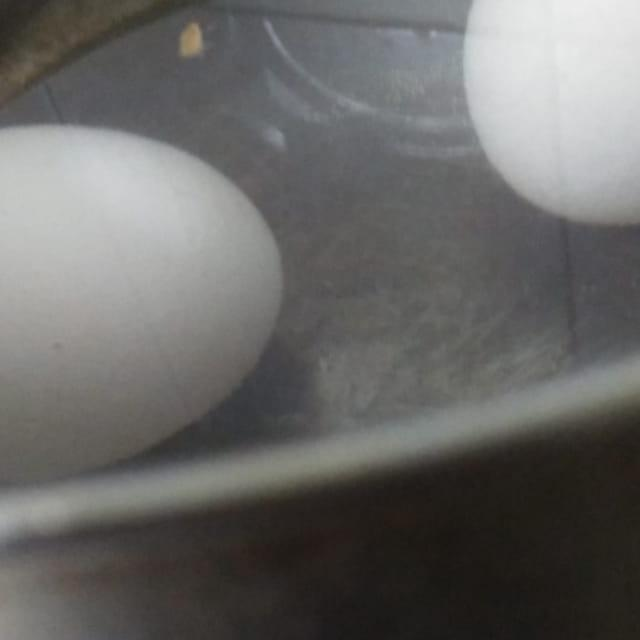egg: (0, 114, 314, 470), (463, 0, 640, 236)
